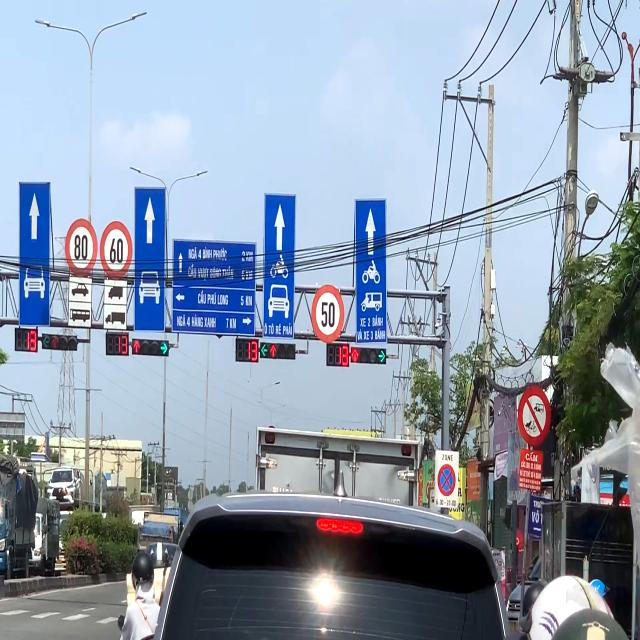P.127: (311, 284, 345, 343), (65, 218, 98, 278), (100, 221, 133, 280)
P.130: (437, 463, 456, 497)
